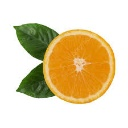orange: (42, 26, 116, 105)
